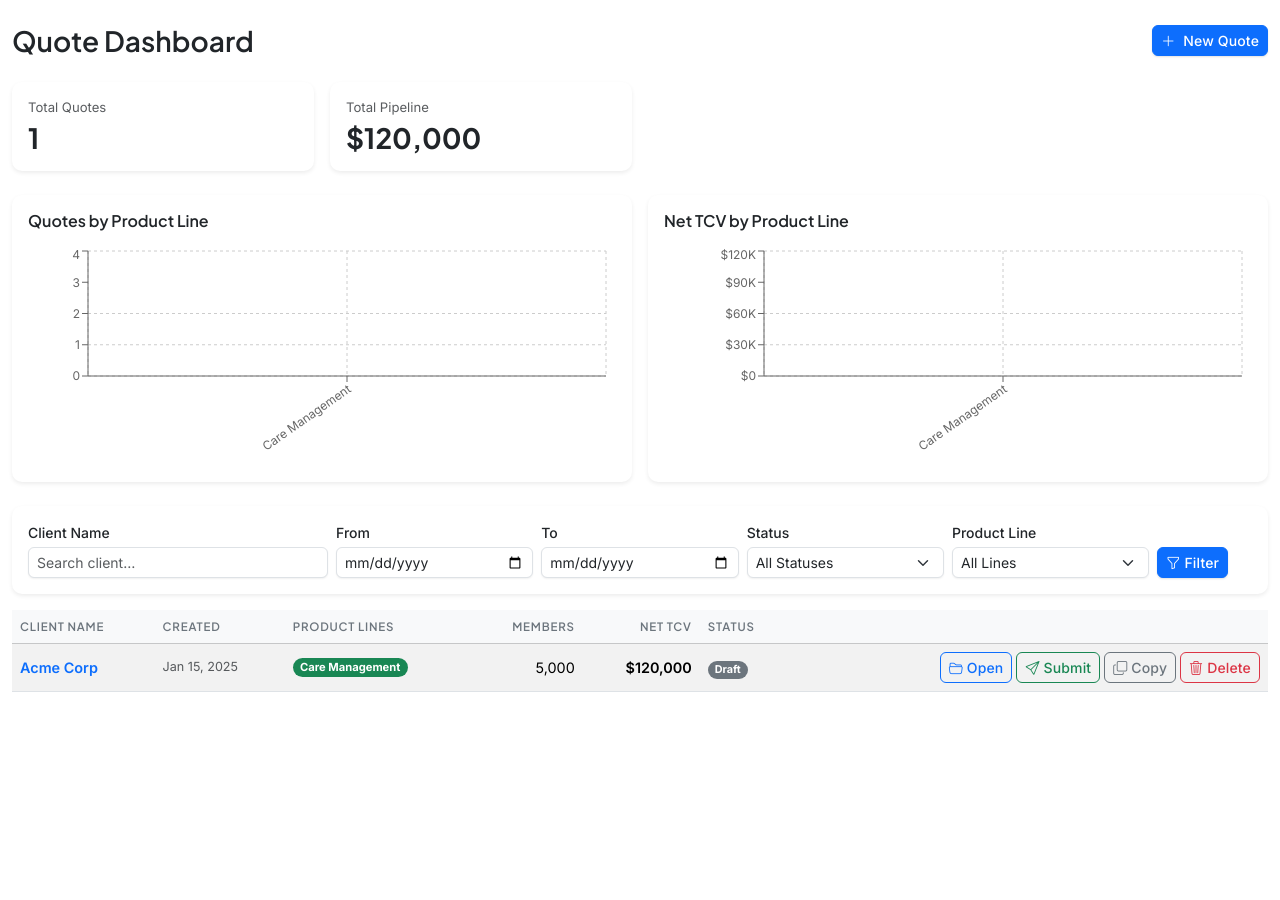
it: QuoteDashboard — quote actions › Delete modal — Cancel closes the modal
Click the button with aria-label "delete quote for acme corp". click: (1220, 668)
box: [1180,652,1260,683]
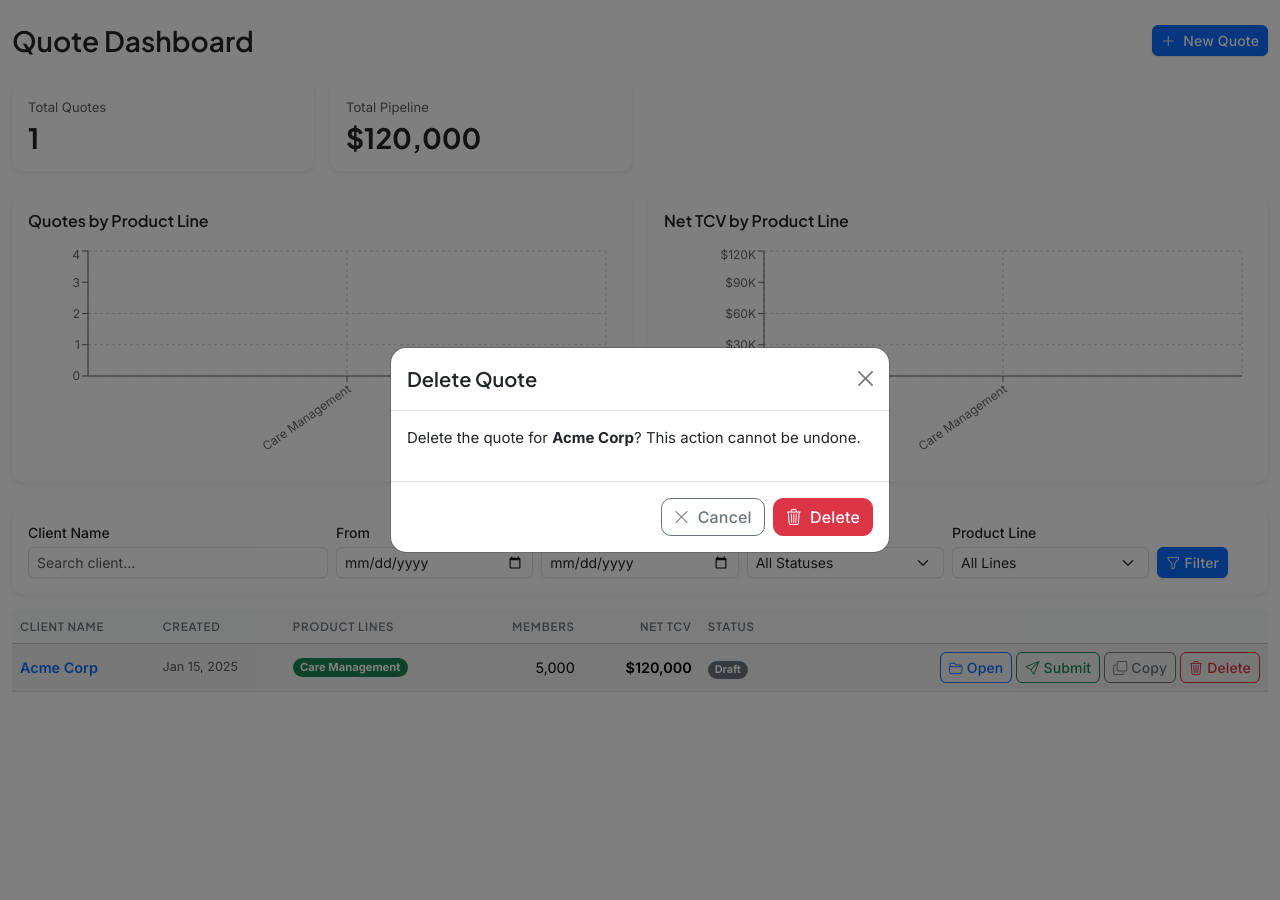
Expected: the dialog is shown
Click the button "Cancel". click: (713, 517)
box: [660,498,765,536]
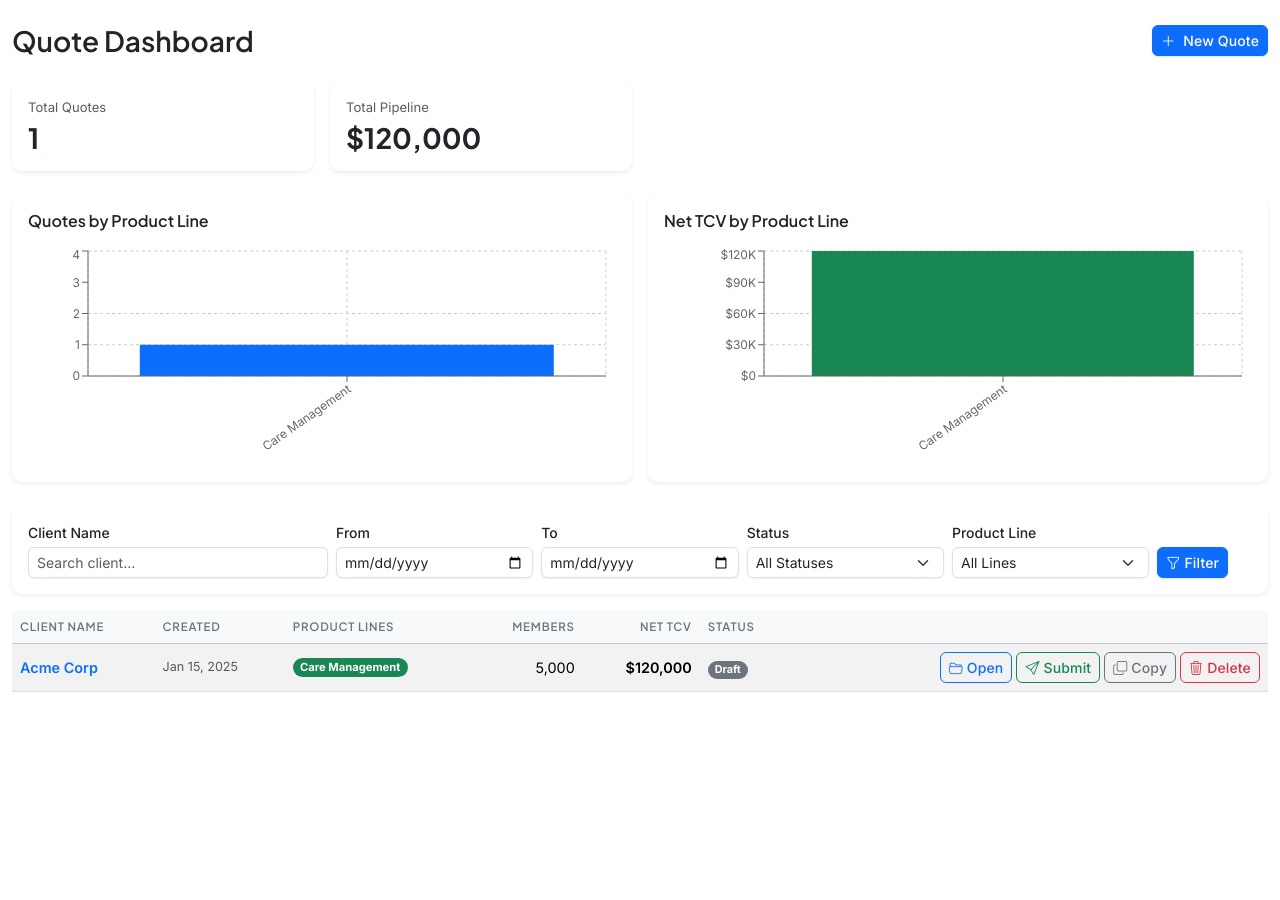
Expected: the dialog is gone
